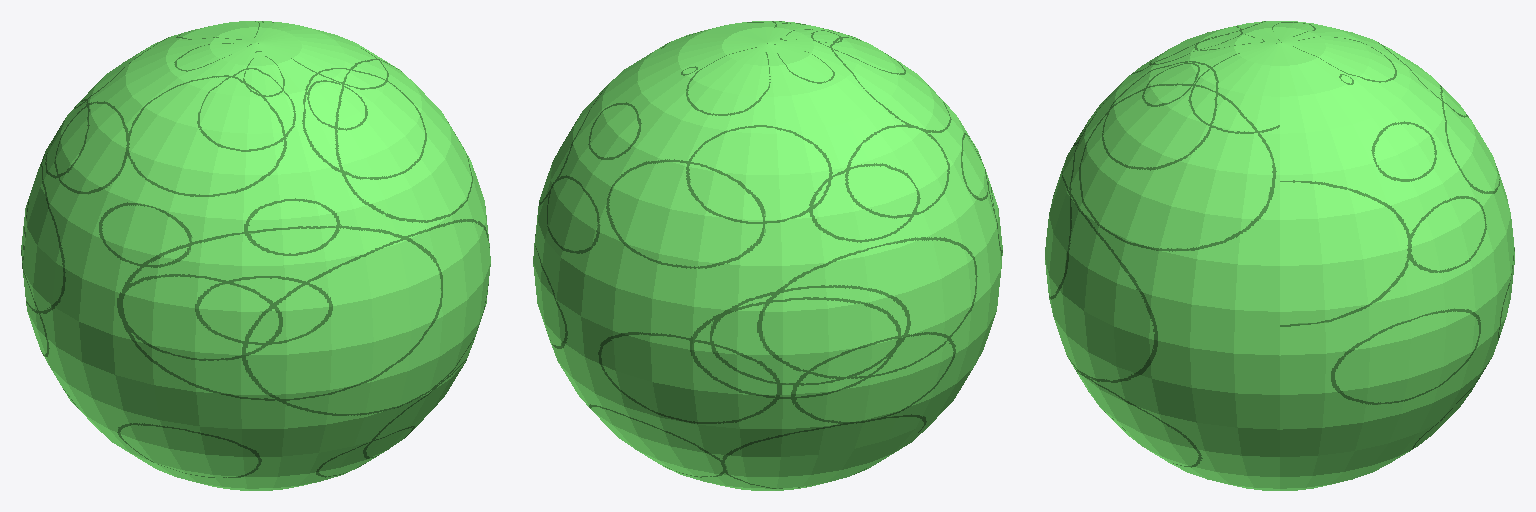
The picture shows the model from 3 angles: view 1: azimuth 30°, elevation 25°; view 2: azimuth 150°, elevation 25°; view 3: azimuth 270°, elevation 25°; orthographic projection.
Parts seen in each view (by area): view 1: 球; view 2: 球; view 3: 球.
Boxes of the visible parts, <box> form: 球: <box>21,21,490,490</box>; 球: <box>533,21,1002,490</box>; 球: <box>1045,21,1514,490</box>.
Bounding box in the file's own units: 150 × 150 × 150.
1 materials, 1 textured.